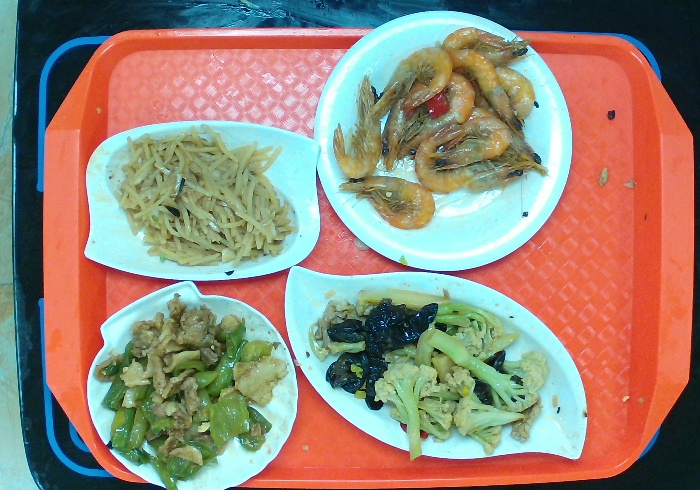RJxy-Bei_Ke_Wan: (74, 271, 299, 490)
RJxy-Jian_Jiao_Pan: (275, 255, 592, 467), (71, 112, 332, 288)
RJxy-Yuan_Pan: (314, 6, 576, 274)
